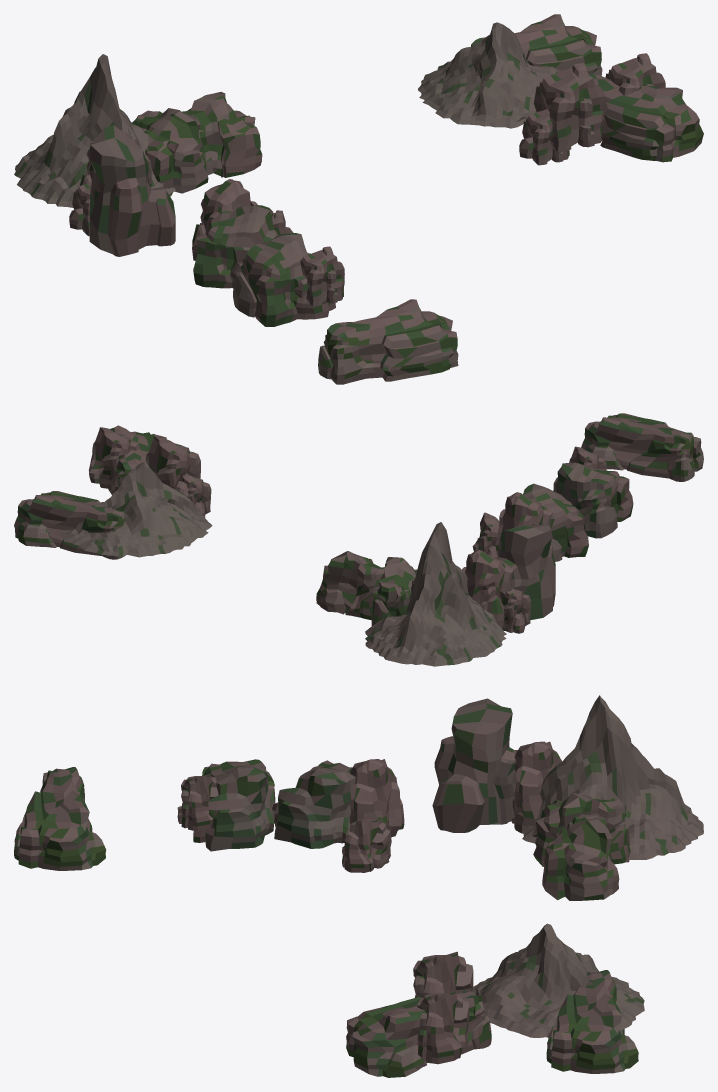
The model's file is rocks.gltf.
The picture shows the model from 3 angles, top to bottom: view 1: azimuth 30°, elevation 25°; view 2: azimuth 150°, elevation 25°; view 3: azimuth 270°, elevation 25°; orthographic projection. The views are drawn at different scales.
Parts seen in each view (by area): view 1: Mountain (4), Big Rock 4 (1), Rock 4, Mountain, Big Rock 4 (2), Big Rock 3, Big Rock 1 (1), Big Rock 3 (1), Big Rock 5 (1), Big Rock 5, Big Rock 4, Big Rock 1 (+4 smaller); view 2: Mountain, Mountain (4), Big Rock 4 (1), Big Rock 4, Big Rock 3, Rock 4, Big Rock 5, Big Rock 3 (1), Big Rock 2, Big Rock 1 (1), Big Rock 5 (1), Big Rock 1 (3) (+6 smaller); view 3: Mountain, Rock 4, Mountain (4), Big Rock 4 (1), Big Rock 4, Big Rock 4 (2), Big Rock 3, Big Rock 3 (1), Big Rock 5, Big Rock 5 (1), Big Rock 1 (3), Big Rock 2 (1) (+4 smaller).
Part boxes in pixels (x1,y1,x2,y2): Mountain (4): (418,22,562,128); Big Rock 4 (1): (318,299,458,384); Rock 4: (89,125,175,256); Mountain: (14,54,175,207); Big Rock 4 (2): (588,73,703,162); Big Rock 3: (233,233,335,326); Big Rock 1 (1): (534,63,605,151); Big Rock 3 (1): (193,205,277,288); Big Rock 5 (1): (131,108,208,196); Big Rock 5: (181,92,262,177); Big Rock 4: (471,14,602,76); Big Rock 1: (294,246,344,306); Mountain: (365,522,506,666); Mountain (4): (59,462,212,557); Big Rock 4 (1): (581,413,703,481); Big Rock 4: (14,491,125,559); Big Rock 3: (553,462,633,538); Rock 4: (497,524,555,620); Big Rock 5: (316,551,384,619); Big Rock 3 (1): (523,483,588,561); Big Rock 2: (461,549,513,626); Big Rock 1 (1): (145,436,200,496); Big Rock 5 (1): (371,557,417,625); Big Rock 1 (3): (88,427,140,490); Mountain: (522,695,703,859); Rock 4: (432,698,516,832); Mountain (4): (472,923,644,1037); Big Rock 4 (1): (14,767,106,870); Big Rock 4: (546,970,638,1073); Big Rock 4 (2): (346,990,491,1077); Big Rock 3: (193,759,276,851); Big Rock 3 (1): (272,760,355,848); Big Rock 5: (542,813,619,900); Big Rock 5 (1): (533,793,630,866); Big Rock 1 (3): (416,990,469,1064); Big Rock 2 (1): (349,759,404,837).
Size of the model in its own units: 0.9345 by 0.2164 by 0.951.
1 material, 1 textured.
